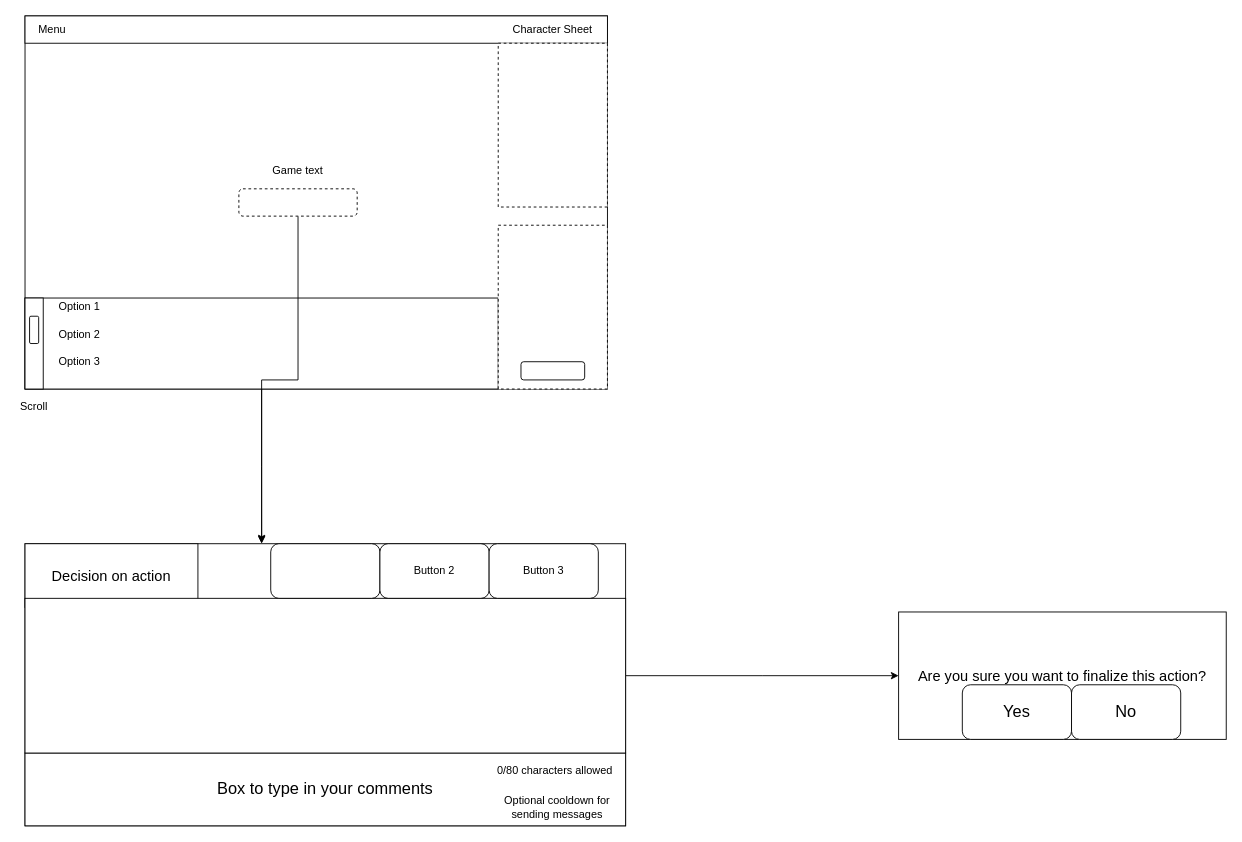
This 1242x842 diagram has some shape labels left out. The shapes that lost their labels are listed below. From the top down, each one's centre as x and y in pixels, then its label:
(x=297, y=202): Dispute!
(x=552, y=370): Chat
(x=325, y=570): Button 1
(x=325, y=675): New, empty chat box to talk in for clean disscussion.
